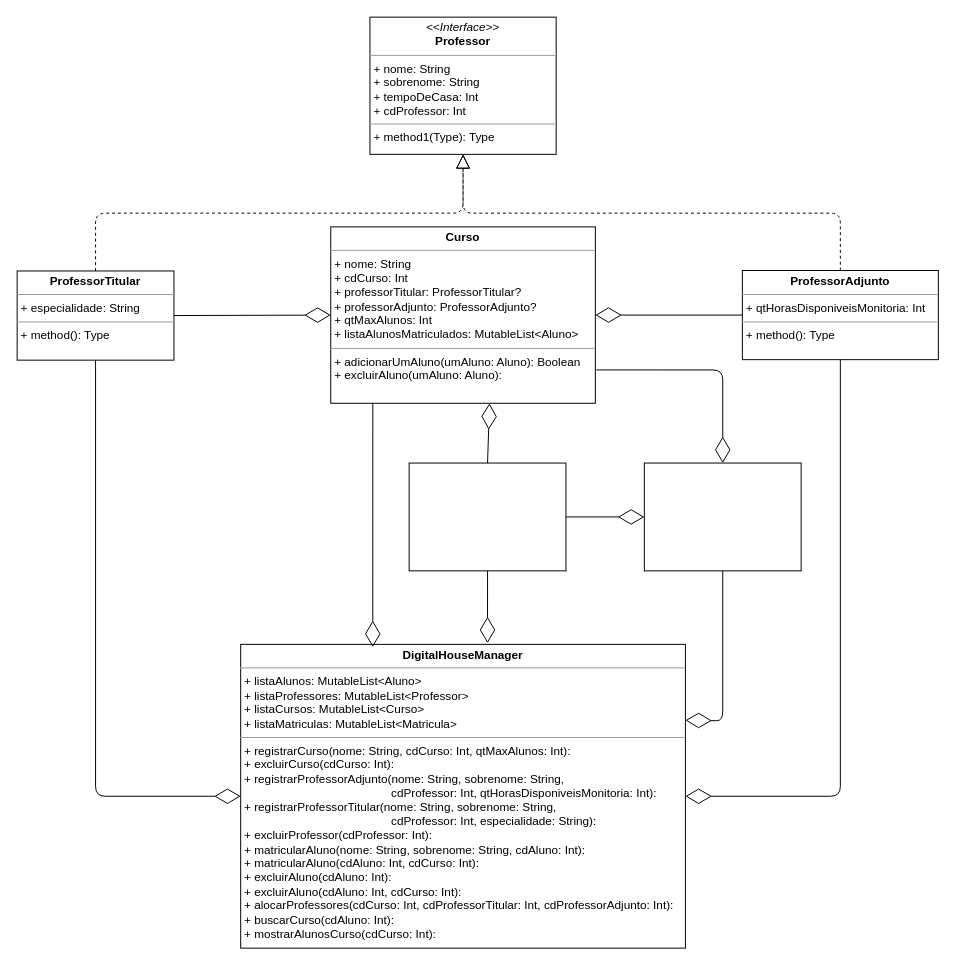
This 956x965 diagram has some shape labels left out. Here are the shapes that lost their labels. From the top down, the centre of each, then its label:
the point at 487,516: Aluno + nome: String + sobrenome: String + cdAluno: Int + method(): type
the point at 722,516: Matricula + aluno: Aluno + curso: Curso + dtMatricula: Date + method(): Type
